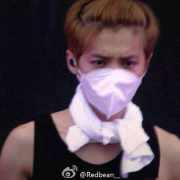face_mask: (78, 26, 145, 113)
